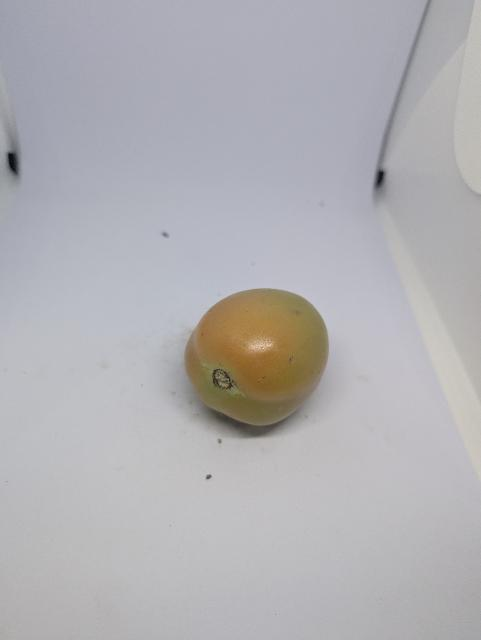breaker: (185, 288, 329, 426)
